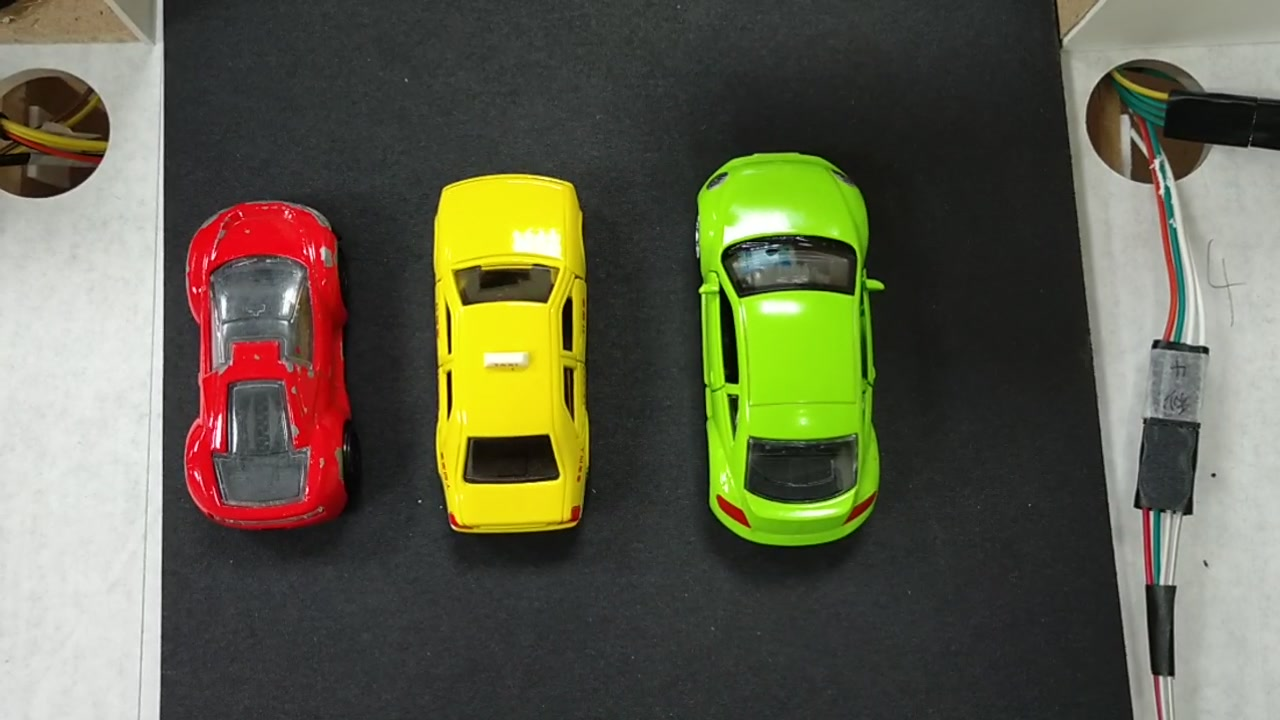car: (699, 156, 876, 549), (426, 170, 599, 540), (180, 200, 358, 530)
